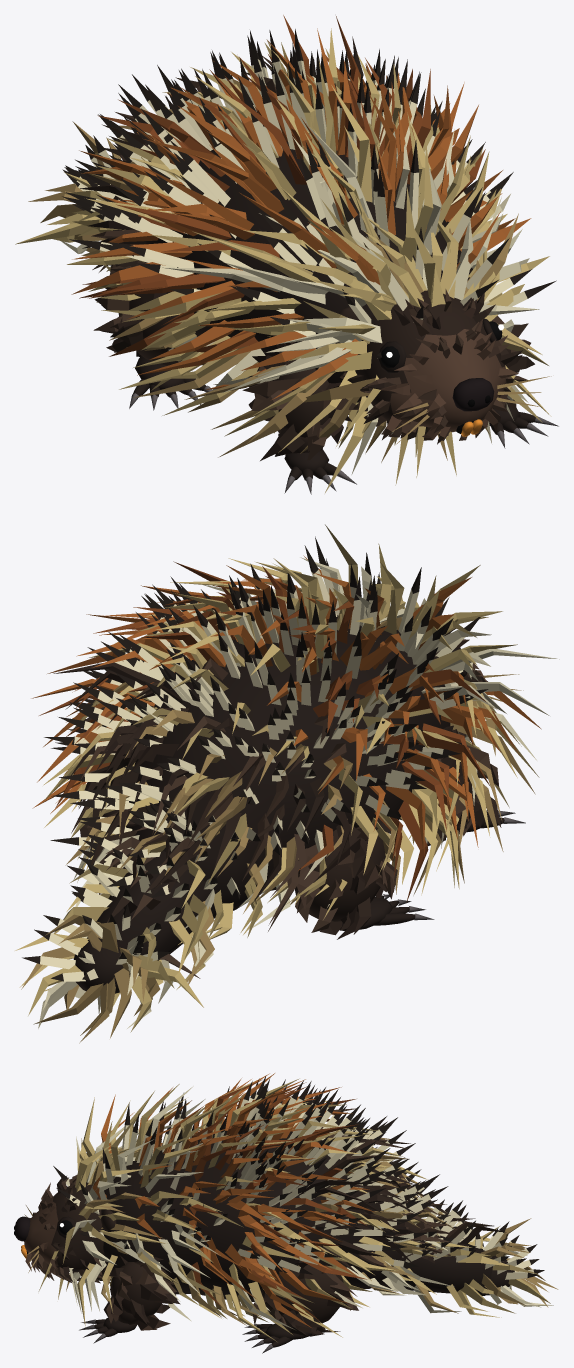
File: porcupine.glb
The picture shows the model from 3 angles, top to bottom: view 1: azimuth 30°, elevation 25°; view 2: azimuth 150°, elevation 25°; view 3: azimuth 270°, elevation 25°; orthographic projection. The views are drawn at different scales.
Visible parts, largest first — view 1: body, head, quills, leg_FR, tail, leg_BR, leg_FL; view 2: body, quills, tail, leg_BR, leg_FR, head; view 3: body, quills, tail, head, leg_FL, leg_BL.
Part boxes in pixels (box(x1,y1,x2,y2)): body: box(67, 15, 551, 492); head: box(267, 213, 551, 444); quills: box(62, 29, 556, 358); leg_FR: box(242, 335, 358, 494); tail: box(15, 121, 127, 272); leg_BR: box(93, 260, 211, 410); leg_FL: box(489, 315, 558, 448); body: box(31, 524, 559, 944); quills: box(44, 536, 488, 899); tail: box(15, 802, 217, 1043); leg_BR: box(294, 818, 434, 939); leg_FR: box(427, 725, 525, 845); head: box(259, 576, 523, 755); body: box(38, 1073, 458, 1341); quills: box(53, 1075, 463, 1274); tail: box(382, 1197, 558, 1317); head: box(14, 1122, 165, 1283); leg_FL: box(79, 1254, 180, 1343); leg_BL: box(242, 1256, 358, 1353).
Size of the model in its own units: 0.8563 by 0.6458 by 1.46.
